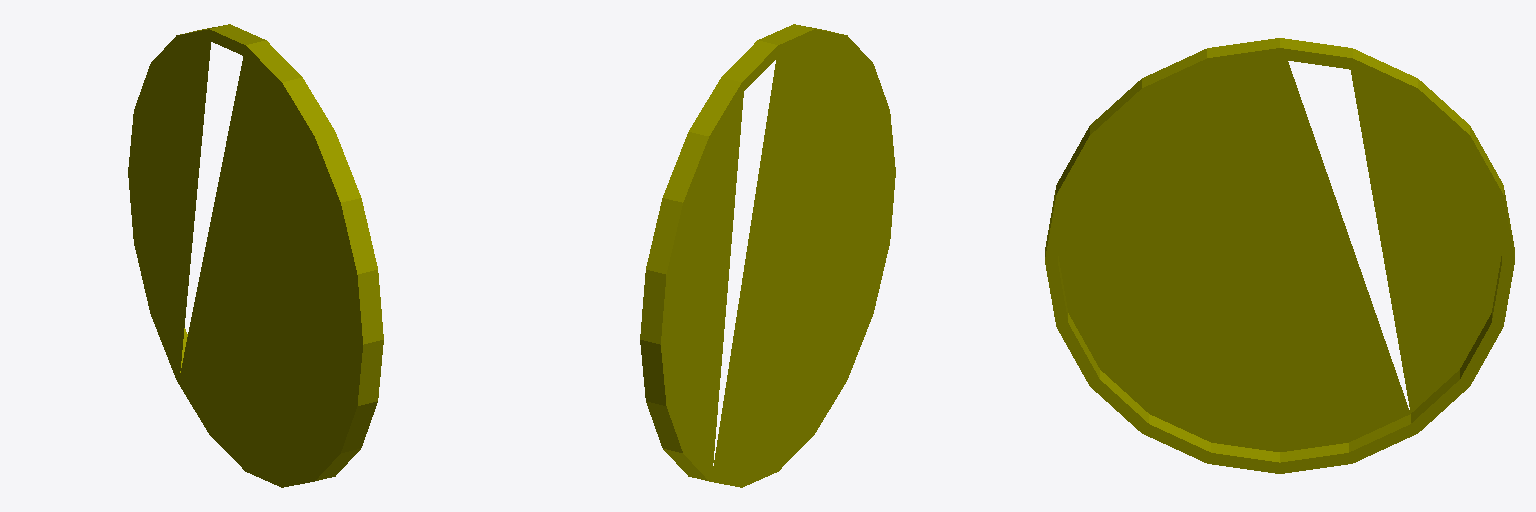
Rendered from loop.obj.
3 renders of one model, left to right at view 1: azimuth 30°, elevation 25°; view 2: azimuth 150°, elevation 25°; view 3: azimuth 270°, elevation 25°, orthographic.
Visible parts, largest first — view 1: pCylinder17; view 2: pCylinder17; view 3: pCylinder17.
Boxes of the visible parts, x1=… form: pCylinder17: x1=128, y1=24, x2=383, y2=487; pCylinder17: x1=640, y1=24, x2=895, y2=487; pCylinder17: x1=1045, y1=38, x2=1514, y2=473.
Bounding box in the file's own units: 8.05 × 158 × 158.